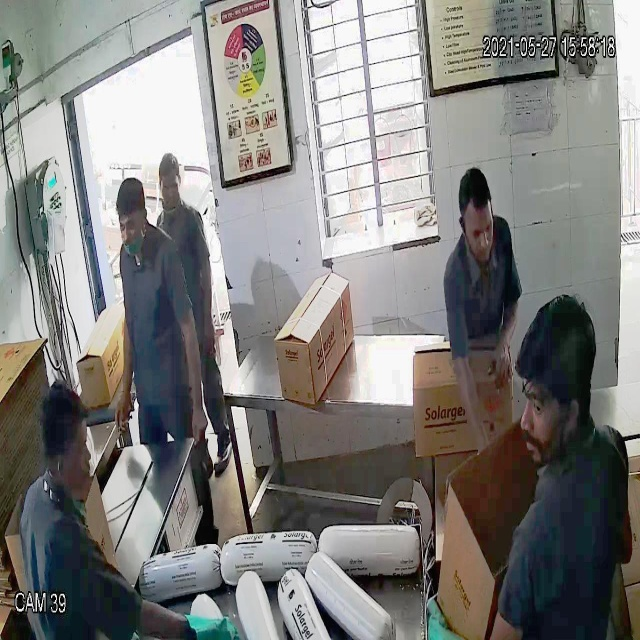Sin_gafas: (513, 384, 579, 430), (460, 213, 505, 245), (112, 210, 151, 240)
